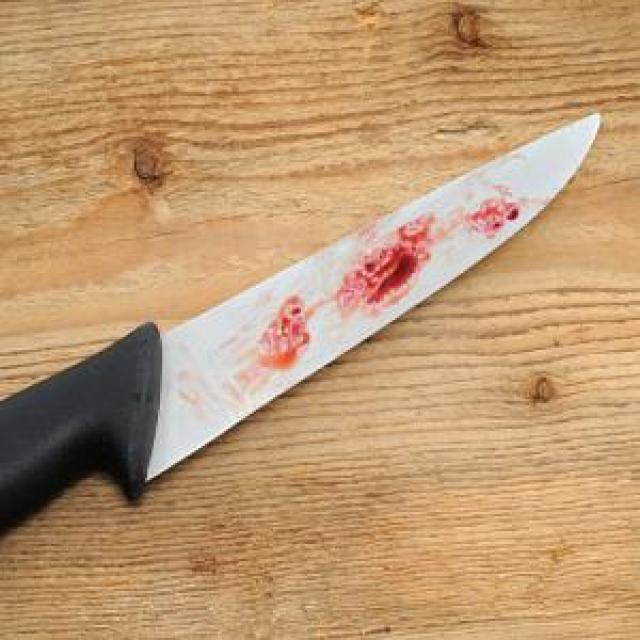knife: (0, 107, 603, 534)
